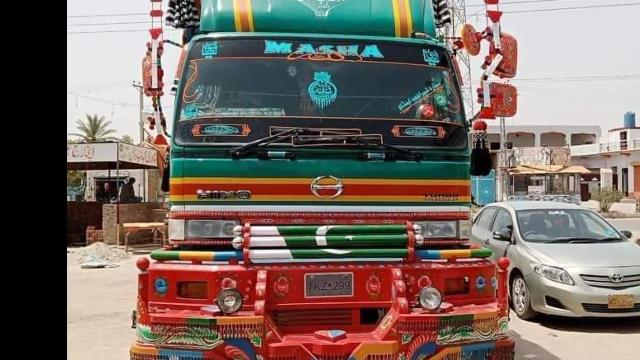plate: (306, 273, 351, 295), (610, 294, 633, 307)
